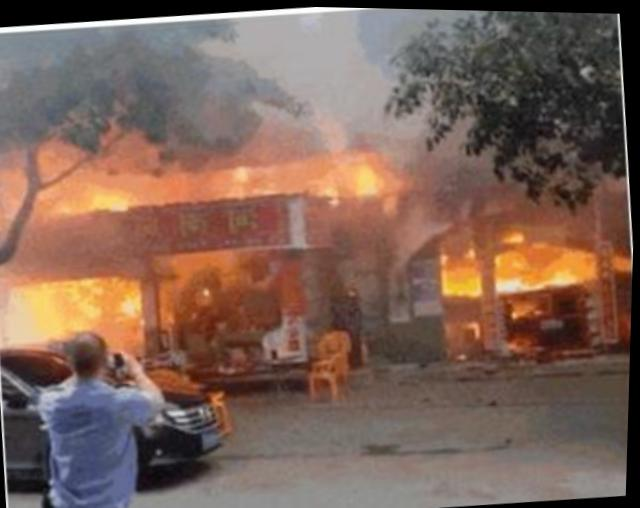fire: (431, 201, 624, 311), (19, 258, 154, 347), (333, 144, 394, 203), (65, 176, 138, 215)
